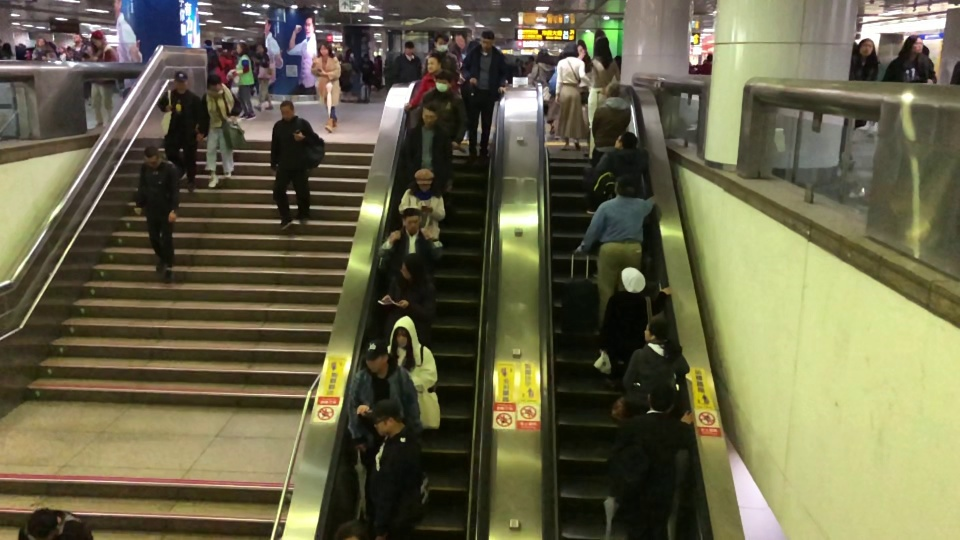person_head: (370, 399, 401, 435), (27, 509, 58, 539), (647, 381, 674, 412), (400, 253, 422, 279), (621, 270, 647, 292), (645, 317, 670, 339), (364, 349, 388, 371), (614, 174, 639, 195), (419, 100, 438, 124), (403, 208, 420, 234), (142, 145, 161, 167), (615, 131, 637, 149), (905, 34, 924, 53), (393, 325, 410, 346), (435, 72, 452, 90), (417, 172, 432, 192), (857, 38, 875, 54), (279, 100, 295, 117), (480, 29, 495, 47), (433, 34, 449, 50), (174, 73, 189, 90), (594, 35, 608, 53), (427, 54, 440, 72), (207, 74, 222, 89), (563, 41, 578, 56), (606, 82, 621, 97), (318, 41, 332, 54), (91, 32, 103, 46), (536, 50, 550, 62), (403, 40, 413, 54), (236, 41, 248, 52), (37, 37, 47, 46), (74, 33, 82, 44), (3, 42, 12, 50), (257, 45, 266, 53), (582, 54, 589, 63), (705, 53, 712, 61)
person_vbox: (607, 382, 694, 537), (579, 175, 657, 330), (597, 270, 673, 388), (369, 398, 430, 537), (346, 350, 424, 454), (460, 29, 508, 170), (132, 145, 180, 285), (623, 317, 690, 404), (270, 100, 315, 229), (157, 74, 202, 192), (197, 74, 242, 189), (839, 37, 876, 171), (587, 35, 622, 161), (381, 252, 437, 326), (592, 131, 648, 204), (404, 101, 453, 177), (420, 71, 469, 146), (554, 41, 587, 152), (591, 82, 632, 167), (398, 172, 446, 242), (86, 32, 118, 129), (404, 55, 458, 112), (392, 324, 438, 390), (378, 209, 432, 265), (311, 40, 342, 134), (882, 34, 932, 83), (19, 509, 94, 539), (229, 42, 257, 121), (424, 34, 460, 77), (255, 44, 274, 112), (393, 40, 422, 82), (531, 49, 554, 101), (31, 37, 57, 62), (72, 32, 88, 62), (698, 53, 713, 75), (2, 41, 15, 60)
